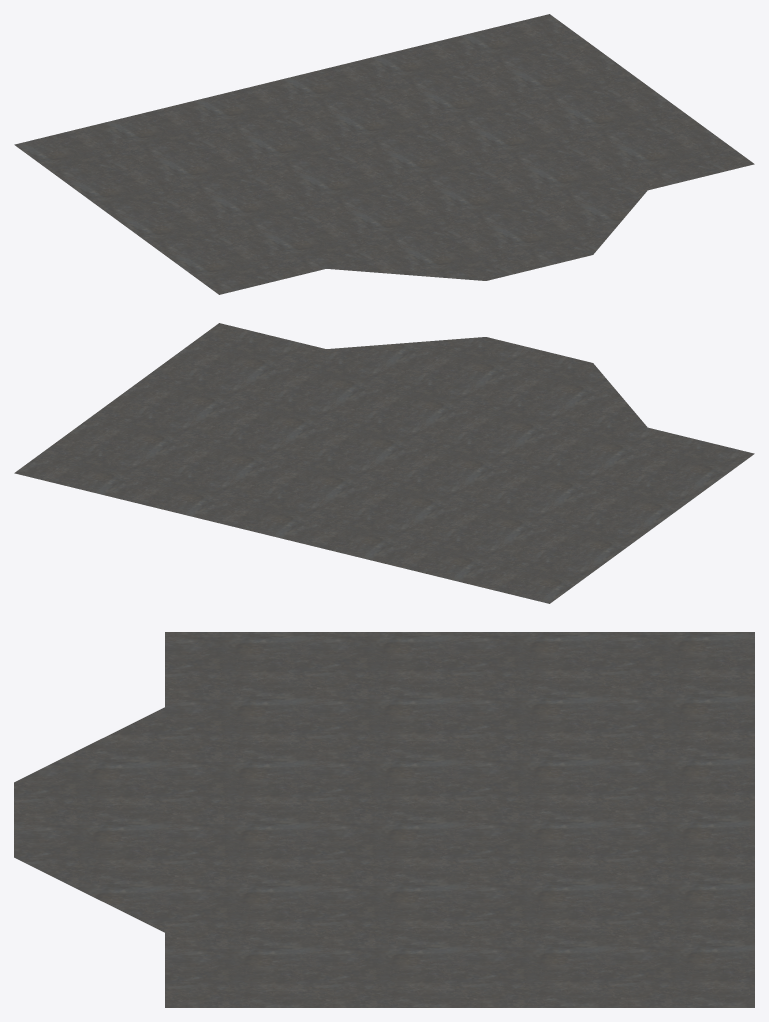
The model's file is mainground.fbx.
3 renders of one model, top to bottom at view 1: azimuth 30°, elevation 25°; view 2: azimuth 150°, elevation 25°; view 3: azimuth 270°, elevation 25°, orthographic. The views are drawn at different scales.
Visible parts, largest first — view 1: main ground; view 2: main ground; view 3: main ground.
Boxes of the visible parts, x1,y1,x2,y2 form: main ground: (14,14,754,294); main ground: (14,323,754,603); main ground: (14,632,754,1007).
Bounding box in the file's own units: 3000 × 1.53e-13 × 2500.
